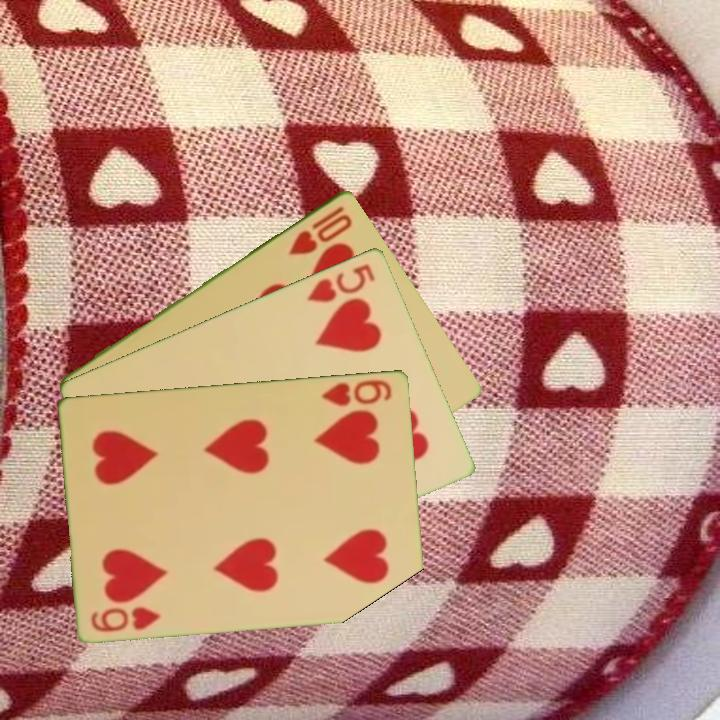10h: (284, 201, 355, 258)
5h: (303, 260, 379, 305)
6h: (319, 375, 395, 409), (87, 602, 164, 635)
